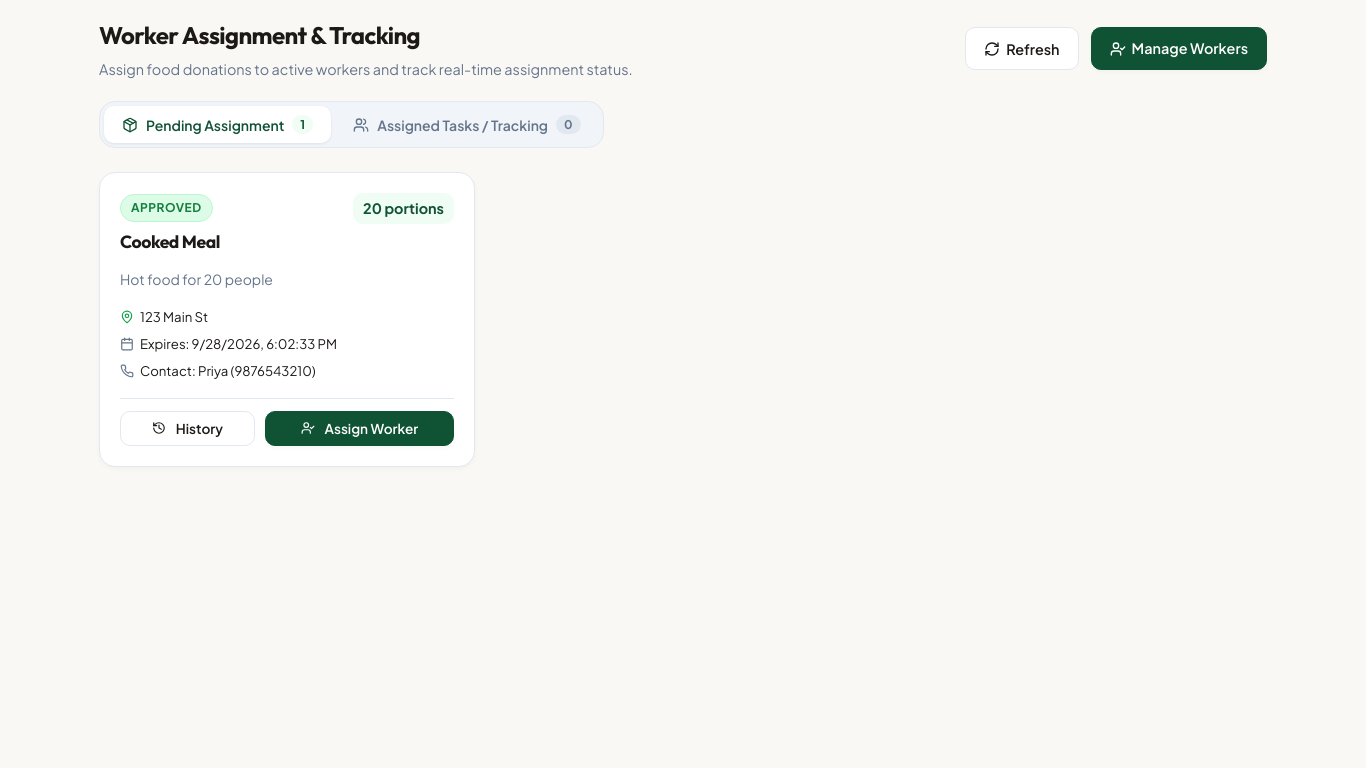
Test: Frontend Module 04 — Unit & Component Tests › AdminAssignmentQueuePage Worker Selector › shows loading state in modal while workers are being fetched
# There may be multiple Assign Worker buttons — click the first (card-level)
Click the button "Assign Worker". click: x=359, y=428
box: [265,410,454,446]
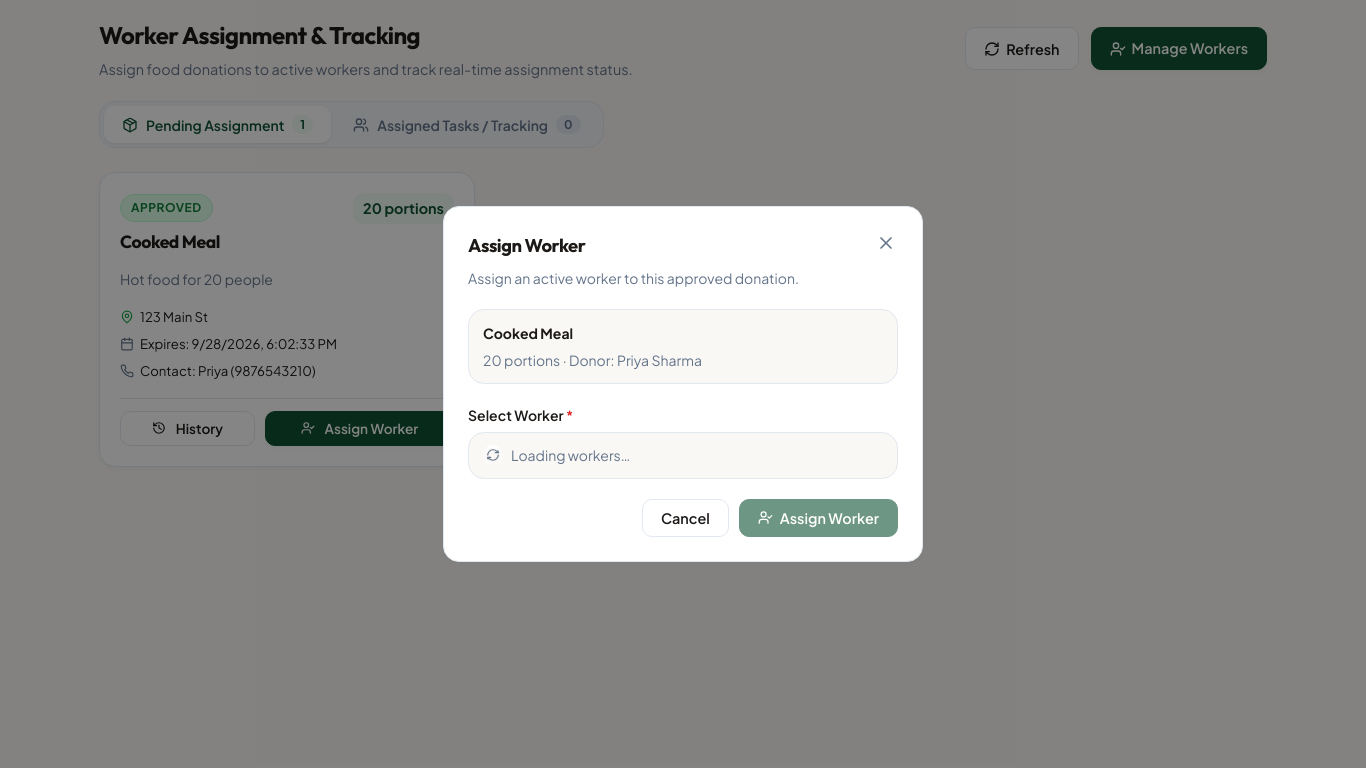
Now the text "Loading workers…" is shown, box [468,432,898,479]
